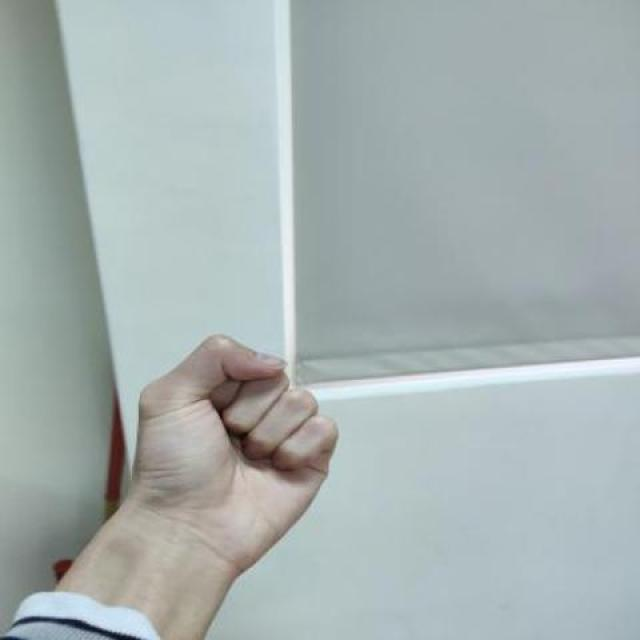Closed Hand: (105, 325, 371, 542)
